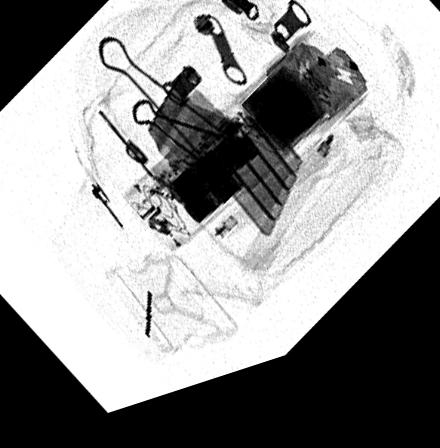Baton: (117, 48, 372, 265)
